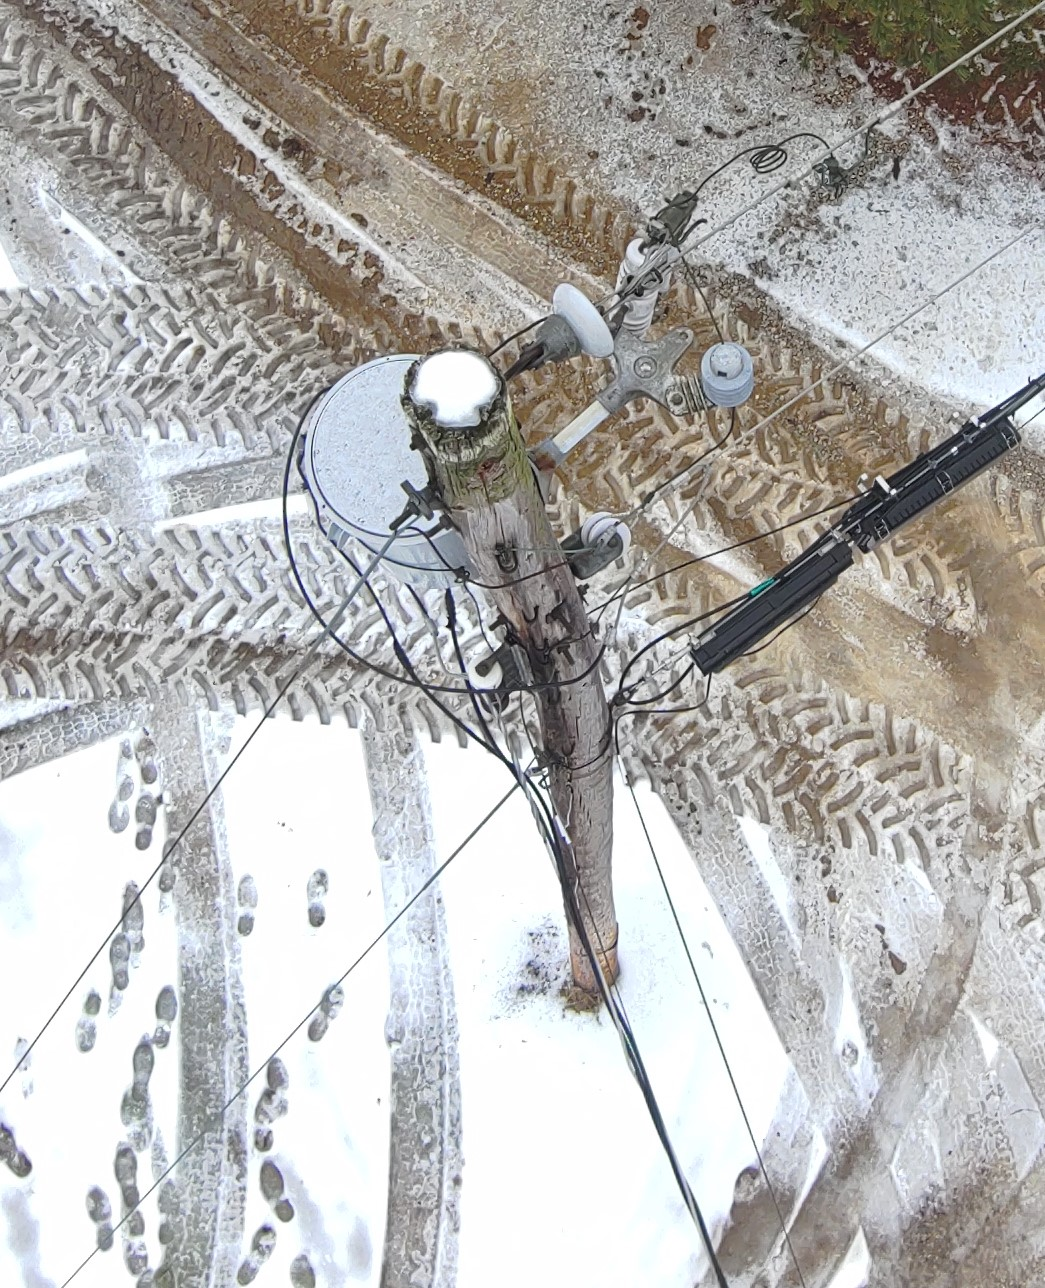pole: (223, 273, 805, 1070)
